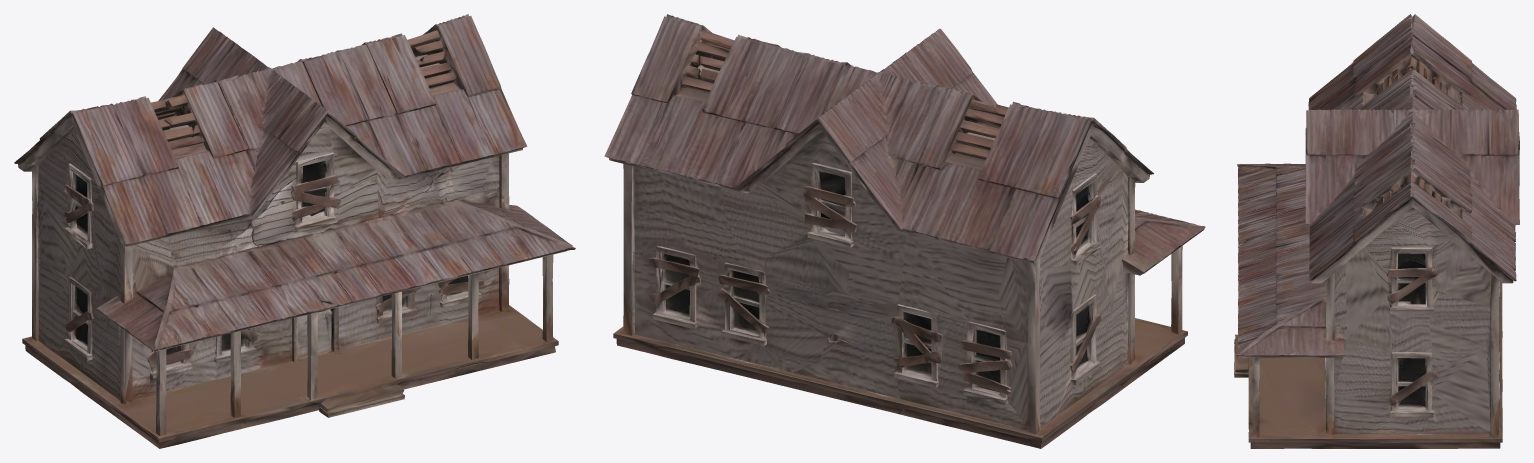
File: house_wood_c_idle.glb
The picture shows the model from 3 angles, left to right: view 1: azimuth 30°, elevation 25°; view 2: azimuth 150°, elevation 25°; view 3: azimuth 270°, elevation 25°; orthographic projection. The views are drawn at different scales.
Parts seen in each view (by area): view 1: tripo_node_54ea794f-2c7f-42c2-9aa6-8ced056e8432; view 2: tripo_node_54ea794f-2c7f-42c2-9aa6-8ced056e8432; view 3: tripo_node_54ea794f-2c7f-42c2-9aa6-8ced056e8432.
Part boxes in pixels (bbox=[...]): tripo_node_54ea794f-2c7f-42c2-9aa6-8ced056e8432: bbox=[14, 14, 575, 448]; tripo_node_54ea794f-2c7f-42c2-9aa6-8ced056e8432: bbox=[604, 14, 1205, 448]; tripo_node_54ea794f-2c7f-42c2-9aa6-8ced056e8432: bbox=[1234, 14, 1519, 448].
Bounding box in the file's own units: 3.2 × 2 × 2.02.
Materials: 1 (1 with a texture image).
